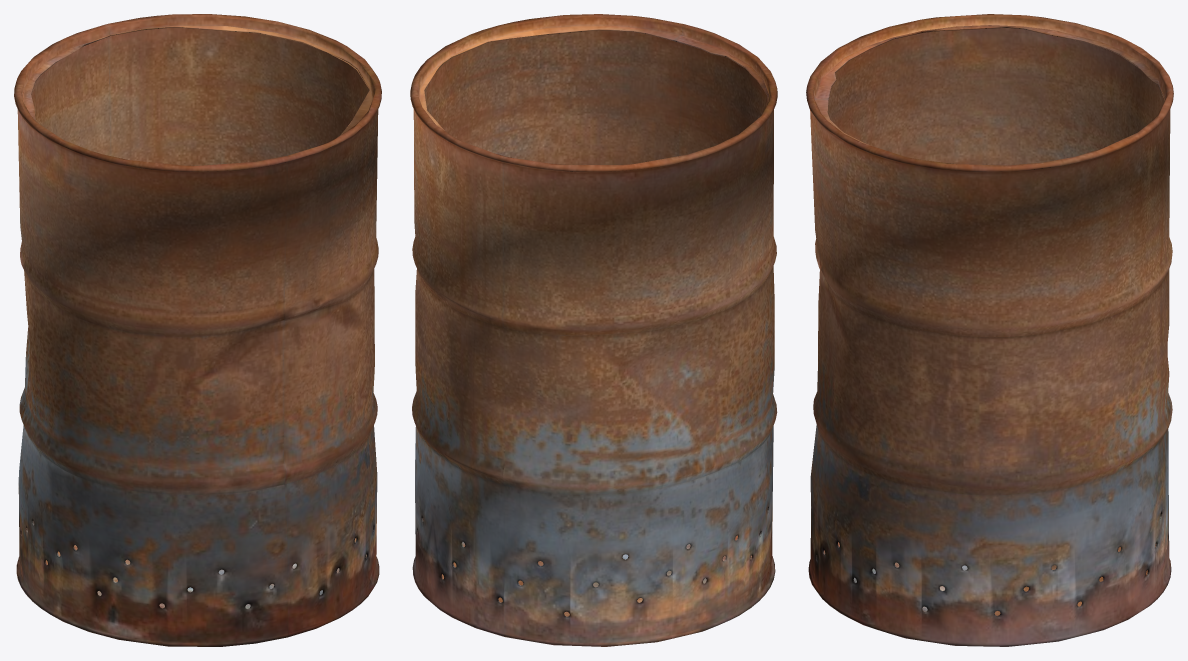
Rendered from barrel_stove.glb.
3 views of the same model, side by side, from view 1: azimuth 30°, elevation 25°; view 2: azimuth 150°, elevation 25°; view 3: azimuth 270°, elevation 25° (orthographic).
Visible parts, largest first — view 1: barrel_stove; view 2: barrel_stove; view 3: barrel_stove.
Part boxes in pixels (box(x1,y1,x2,y2)): barrel_stove: box(14, 14, 381, 646); barrel_stove: box(410, 14, 777, 646); barrel_stove: box(806, 14, 1173, 646).
Size of the model in its own units: 0.5926 by 0.8556 by 0.5925.
Materials: 1 (1 with a texture image).
